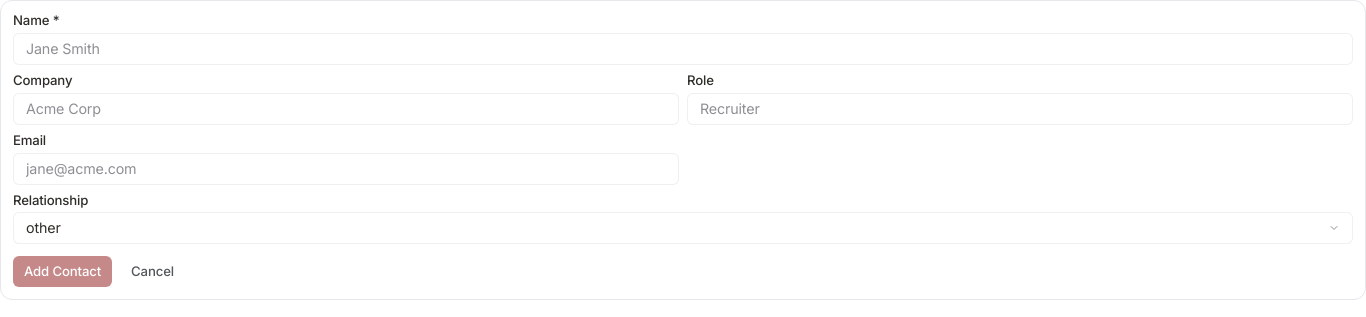
ContactForm › rendering › should enable Add Contact button when name has content
In the field with placeholder "Jane Smith": (683, 49) x1=13 y1=33 x2=1353 y2=65, type "John Doe"
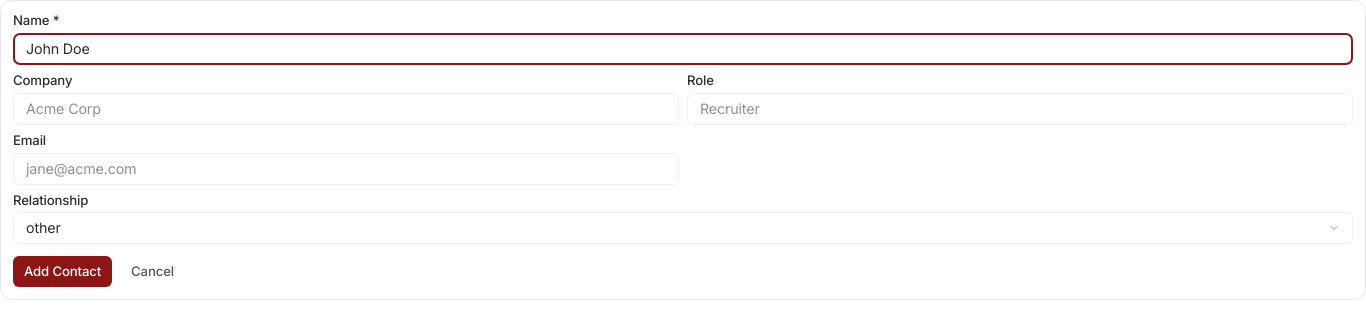
Expected: the button "Add Contact" is enabled, x1=13 y1=256 x2=112 y2=287
